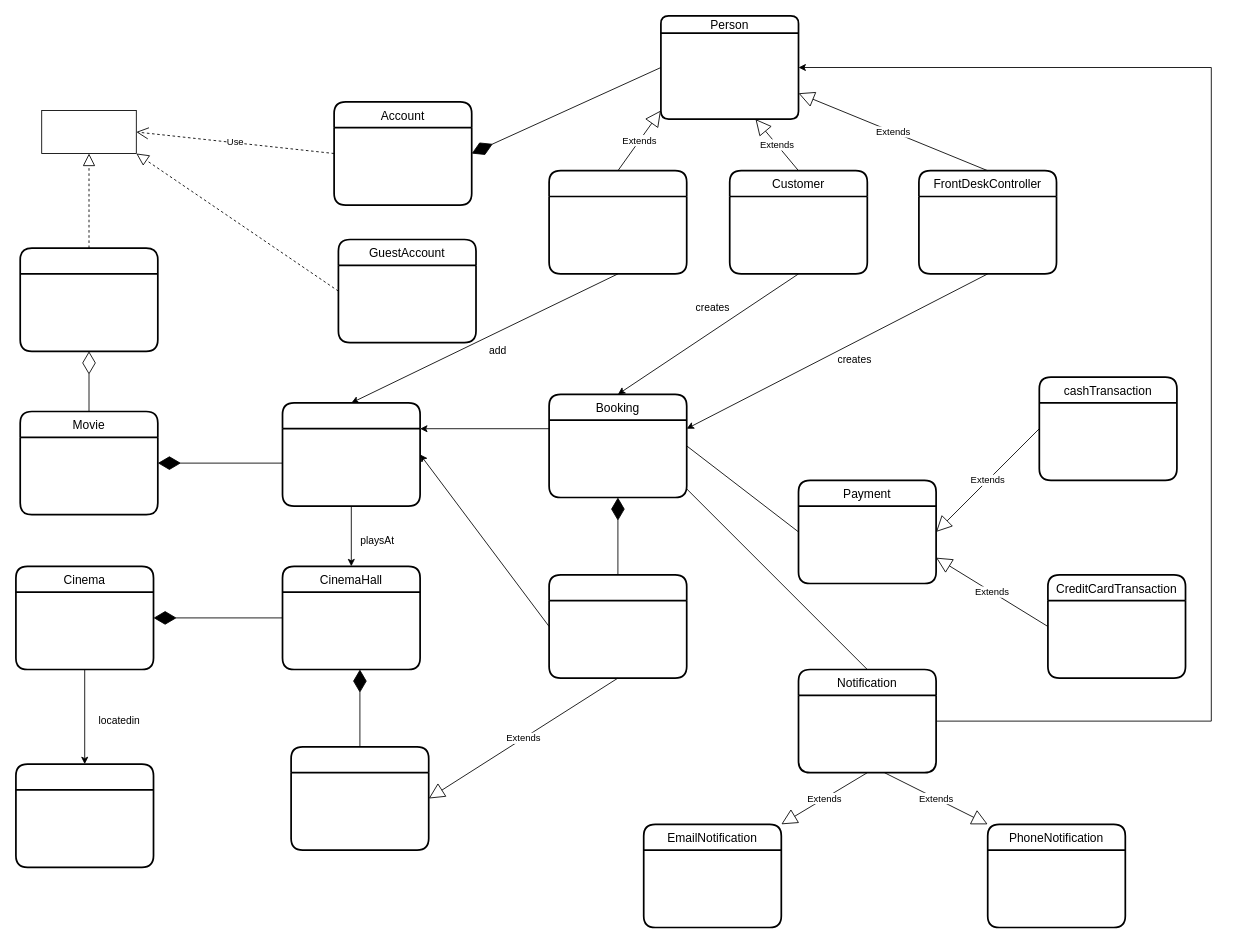
This 1233x943 diagram has some shape labels left out. The shapes that lost their labels are listed below. From the top down, each one's centre as x and y in pixels, then its label:
At (x=88, y=132): "<<Search>>".
At (x=617, y=221): "Adimin".
At (x=88, y=299): "Catalog".
At (x=351, y=454): "show".
At (x=617, y=626): "ShowSeat".
At (x=84, y=815): "City".
At (x=359, y=798): "CinemaHallSeat".
